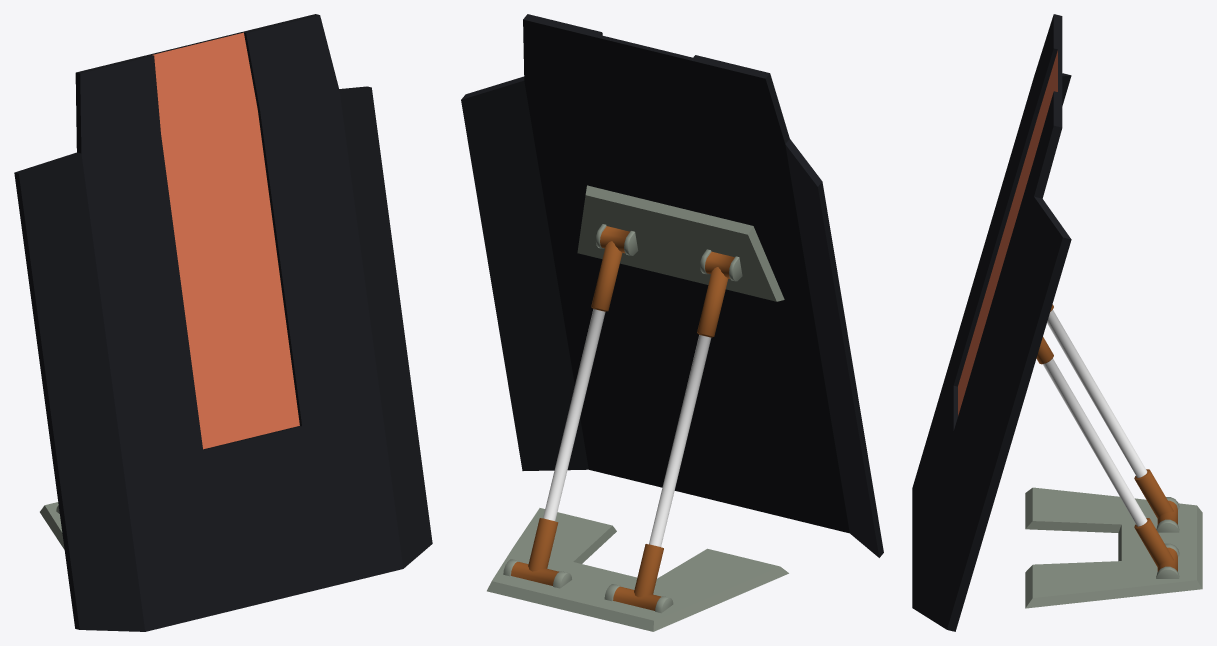
File: entrance_wall_2.fbx
3 views of the same model, side by side, from view 1: azimuth 30°, elevation 25°; view 2: azimuth 150°, elevation 25°; view 3: azimuth 270°, elevation 25° (orthographic). The views are drawn at different scales.
Parts seen in each view (by area): view 1: Entrance_wall_2; view 2: Entrance_wall_2; view 3: Entrance_wall_2.
Boxes of the visible parts, <box> form: Entrance_wall_2: <box>14,14,432,631</box>; Entrance_wall_2: <box>461,14,883,631</box>; Entrance_wall_2: <box>912,14,1202,631</box>.
Bounding box in the file's own units: 911 × 1244 × 680.
